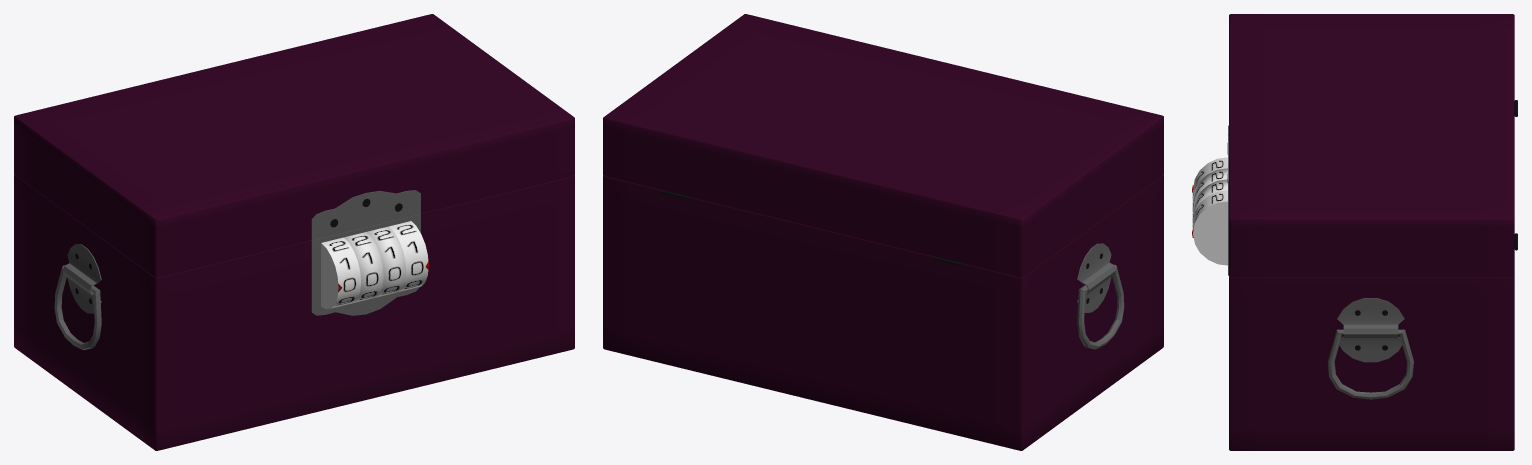
The model's file is Chest3.fbx.
3 renders of one model, left to right at view 1: azimuth 30°, elevation 25°; view 2: azimuth 150°, elevation 25°; view 3: azimuth 270°, elevation 25°, orthographic.
Parts seen in each view (by area): view 1: UpperChest, LowerChest, Lock1, Lock2, Lock3, Lock4; view 2: LowerChest, UpperChest; view 3: UpperChest, LowerChest, Lock4, Lock2, Lock3, Lock1.
Boxes of the visible parts, bbox=[...] form: UpperChest: bbox=[14, 14, 574, 277]; LowerChest: bbox=[14, 174, 574, 450]; Lock1: bbox=[321, 237, 361, 309]; Lock2: bbox=[344, 232, 383, 302]; Lock3: bbox=[366, 226, 406, 297]; Lock4: bbox=[389, 221, 428, 291]; LowerChest: bbox=[603, 174, 1163, 450]; UpperChest: bbox=[603, 14, 1163, 277]; UpperChest: bbox=[1227, 14, 1514, 277]; LowerChest: bbox=[1228, 100, 1517, 450]; Lock4: bbox=[1192, 190, 1227, 265]; Lock2: bbox=[1192, 168, 1227, 211]; Lock3: bbox=[1192, 179, 1227, 222]; Lock1: bbox=[1192, 157, 1227, 200].
Size of the model in its own units: 122 by 60.79 by 77.23.
